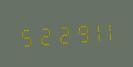five: (17, 23, 32, 49)
nine: (66, 20, 81, 45)
one: (82, 18, 97, 44), (98, 17, 113, 43)
two: (33, 22, 48, 48), (50, 21, 65, 47)
